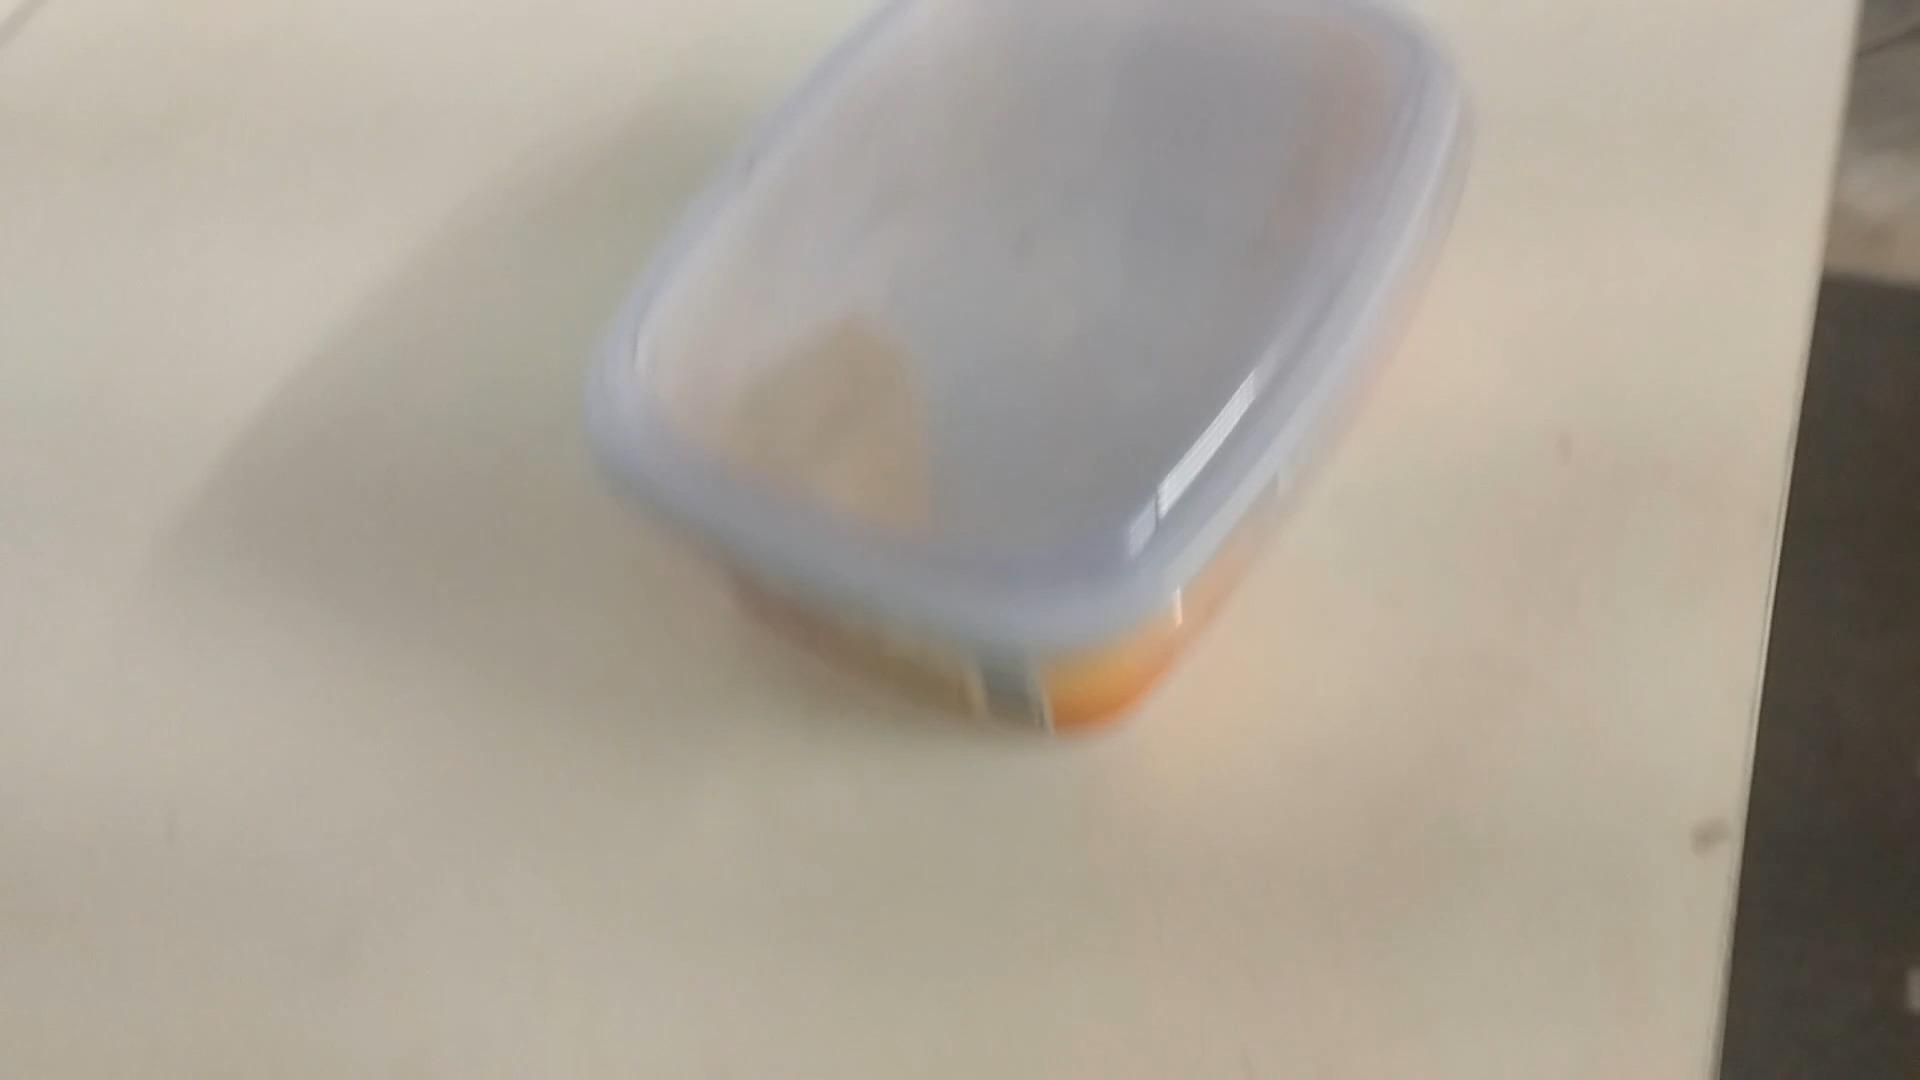butter: (582, 0, 1458, 735)
